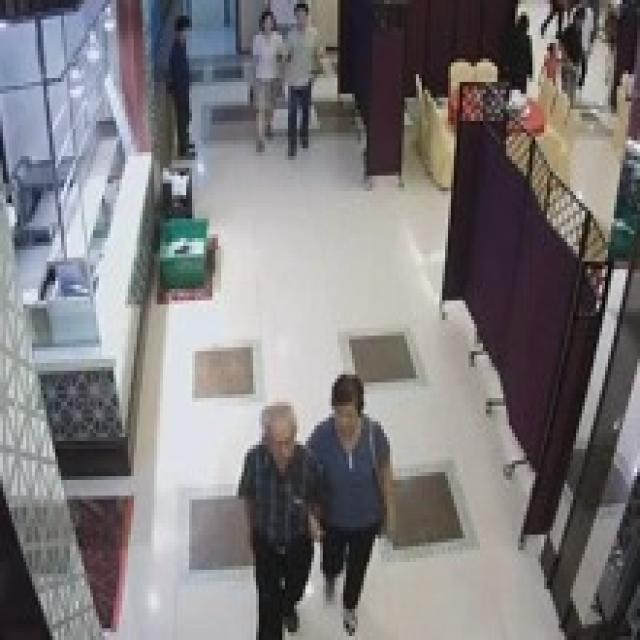normal: (304, 370, 388, 640), (240, 394, 306, 636), (157, 9, 214, 166), (286, 0, 324, 150), (257, 3, 284, 140)
